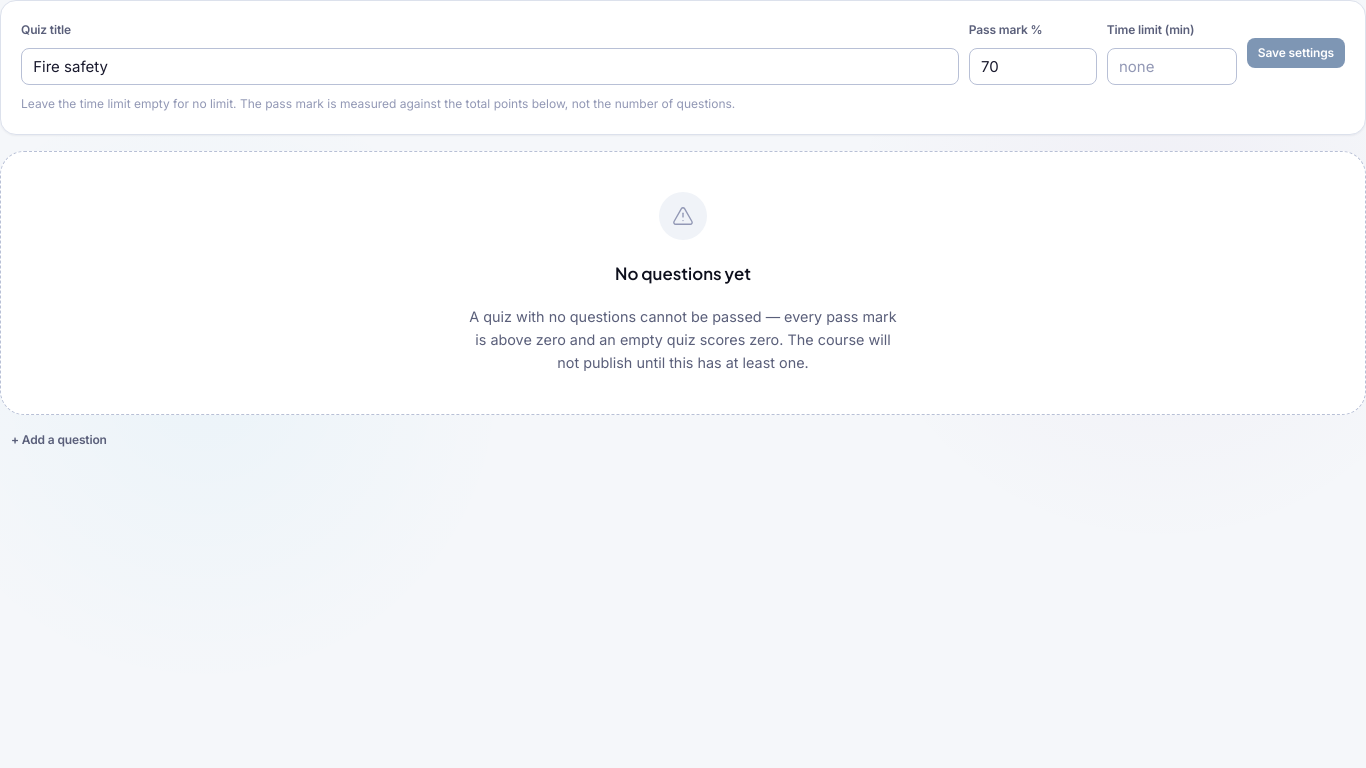
Scenario: writing a question › will not submit without a prompt
The width and height of the screenshot is (1366, 768).
What coordinates should you click on to do the following:
click the button "+ Add a question"
I would click on:
 (59, 440)
Its box is [0,425,118,455].
(page scrolled)
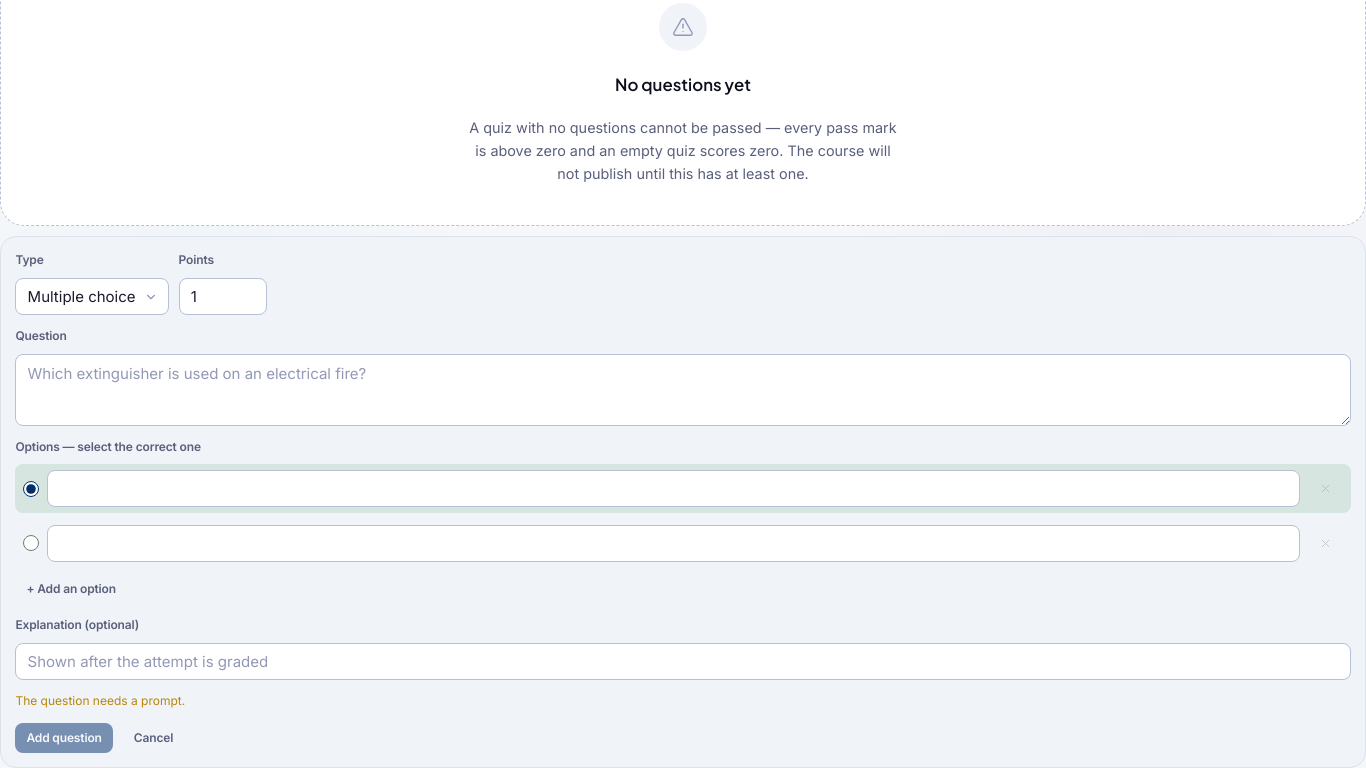
Expected: the button "Add question" is disabled, [15,722,113,752]
Expected: the text "The question needs a prompt." is shown, [15,693,185,708]
